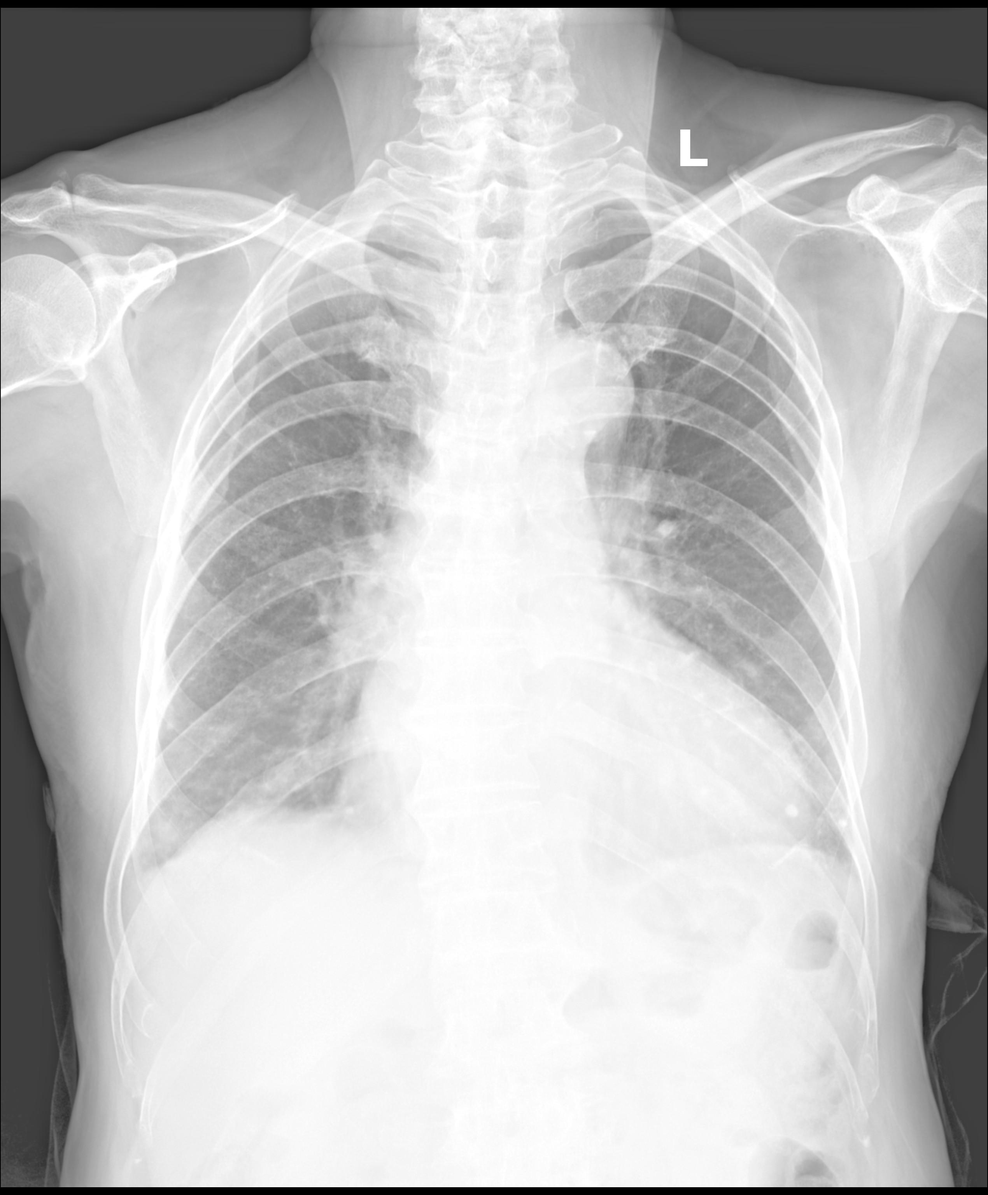Aortic enlargement: (520, 329, 638, 447)
Cardiomegaly: (330, 717, 816, 857)
Pleural thickening: (85, 793, 186, 929)
